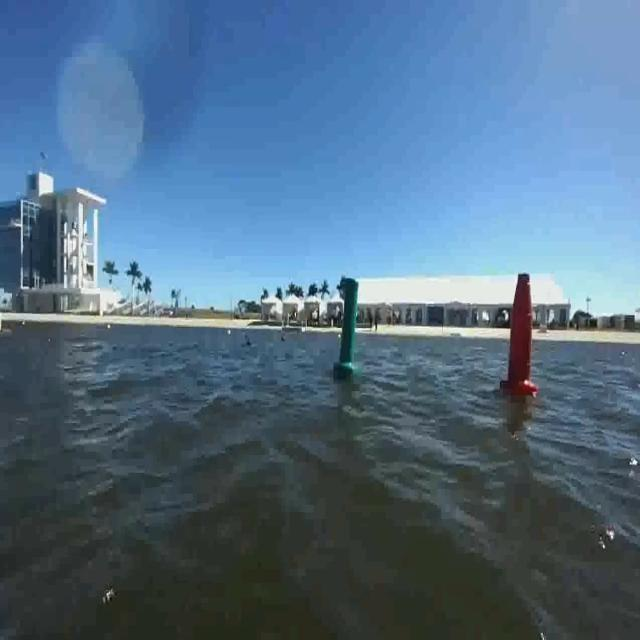green-column-buoy: (336, 276, 363, 377)
red-column-buoy: (500, 274, 538, 398)
